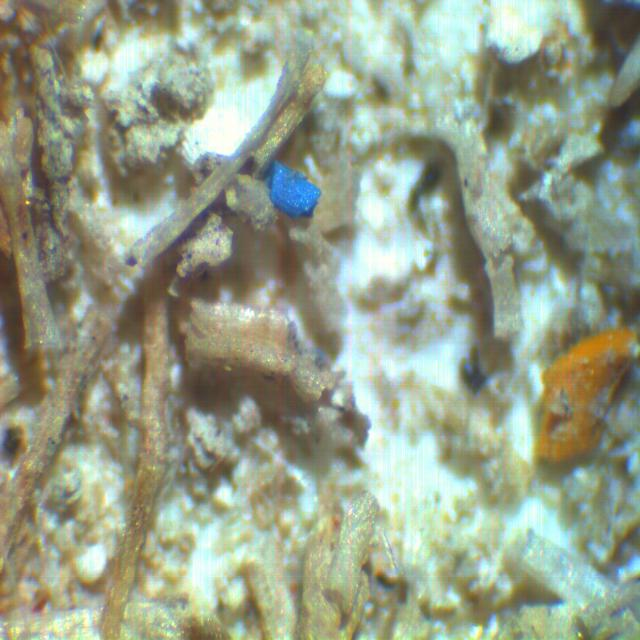microplastic: (269, 160, 322, 220)
